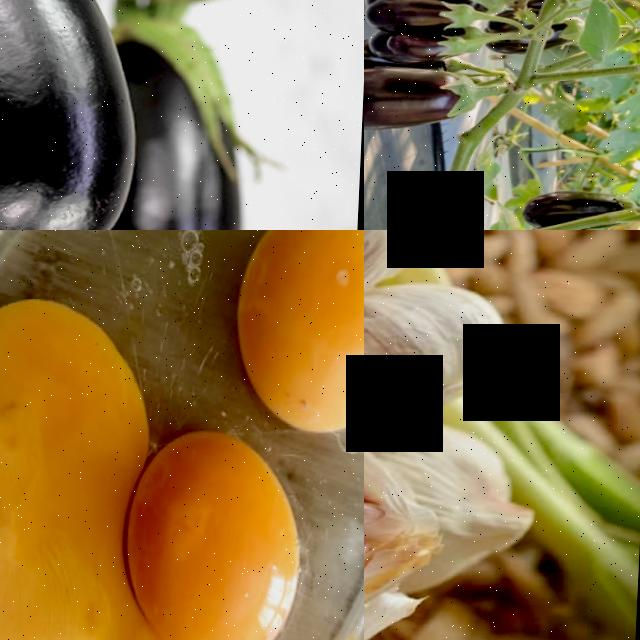egg_: (121, 424, 316, 640), (227, 230, 364, 436)
eggplant: (0, 0, 153, 230), (364, 62, 477, 130), (521, 185, 636, 221), (366, 0, 474, 32), (384, 30, 472, 63)
garlic: (364, 285, 512, 433)
